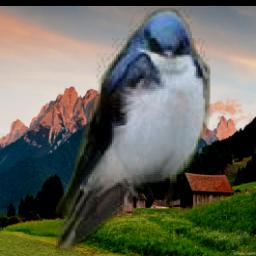Swallow: (51, 6, 211, 251)
